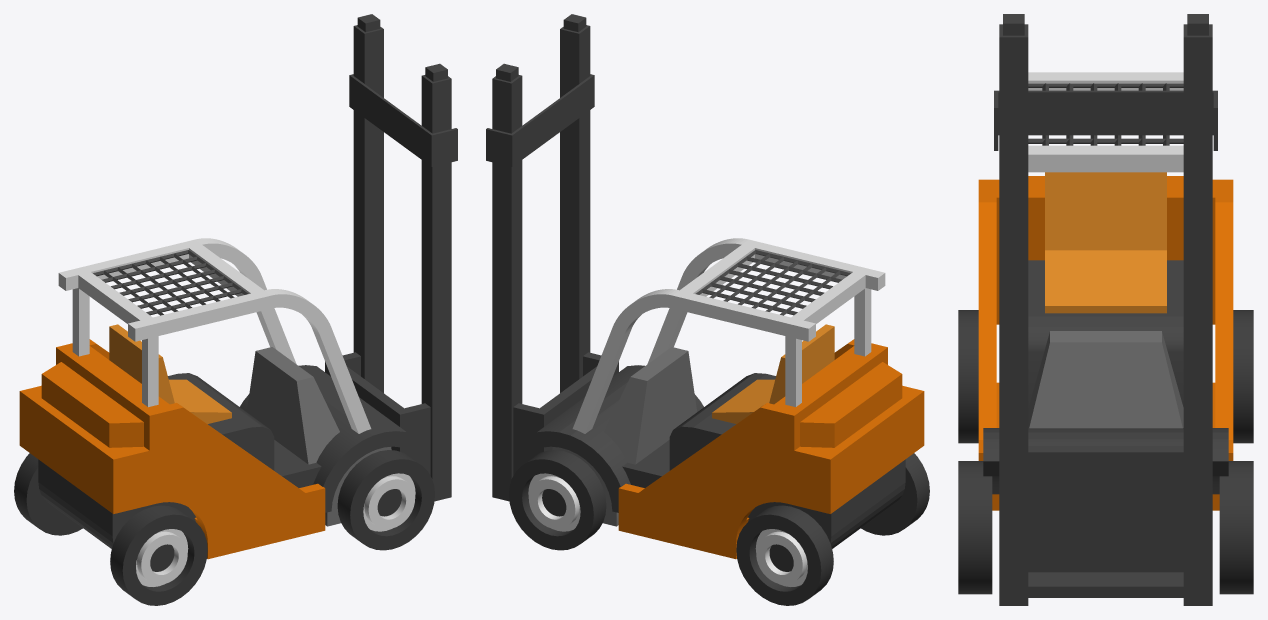
File: Car_1.fbx
3 renders of one model, left to right at view 1: azimuth 30°, elevation 25°; view 2: azimuth 150°, elevation 25°; view 3: azimuth 270°, elevation 25°, orthographic. The views are drawn at different scales.
Visible parts, largest first — view 1: 前板2; view 2: 前板2; view 3: 前板2.
Boxes of the visible parts, box(x1,y1,x2,y2) form: 前板2: box(14, 14, 457, 605); 前板2: box(486, 14, 929, 605); 前板2: box(958, 14, 1253, 605).
Bounding box in the file's own units: 442 × 823 × 1011.
